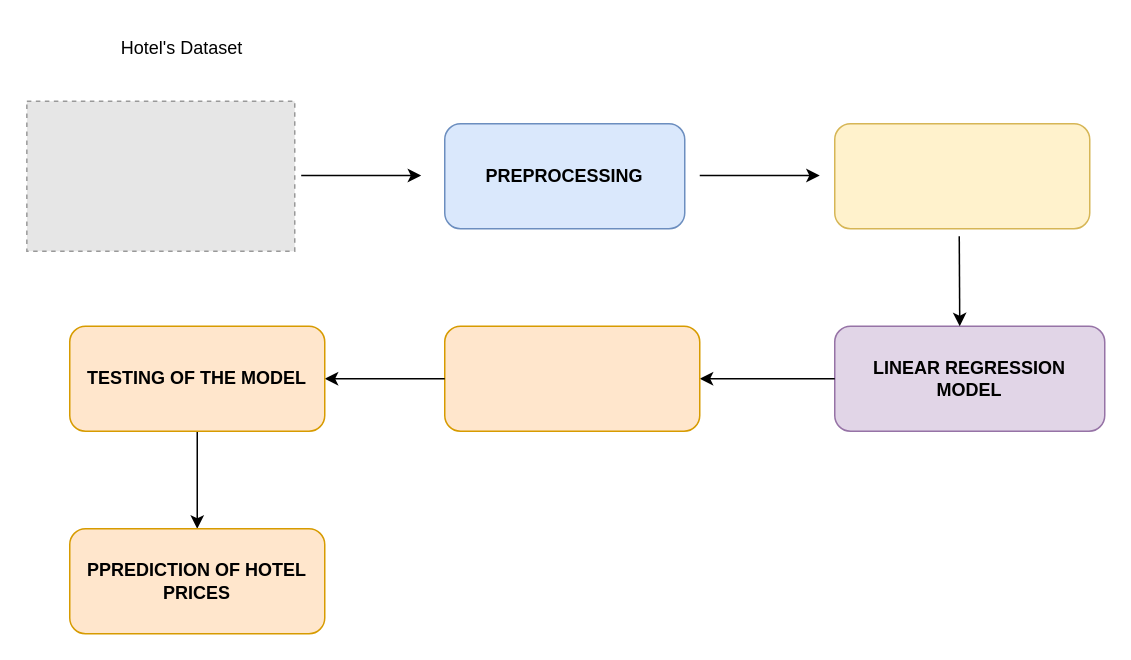
Image size: 1131x660. Some labels were removed from this diagram. Grey dashed boxes stand in for pictures. Each missing label, with the centre of its shape:
BOX PLOT & HEATMAP: point (961, 175)
TRAINING: point (571, 378)
